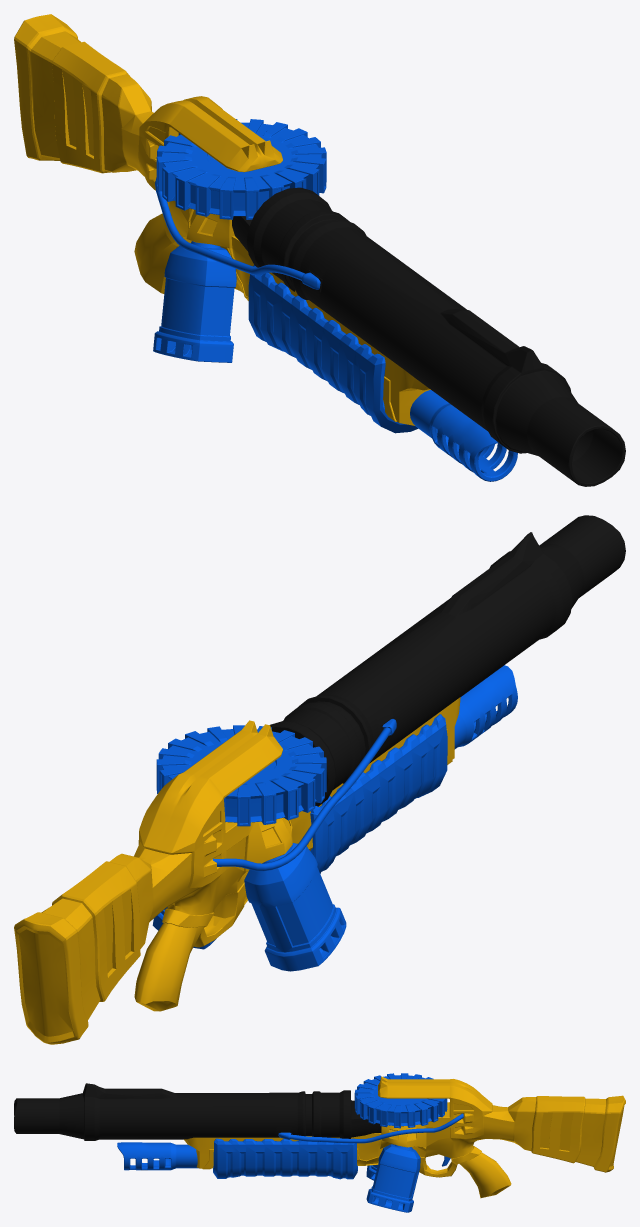
File: Frost_Cannon.fbx
3 views of the same model, one above another, from view 1: azimuth 30°, elevation 25°; view 2: azimuth 150°, elevation 25°; view 3: azimuth 270°, elevation 25° (orthographic). The views are drawn at different scales.
Visible parts, largest first — view 1: Frost_Cannon; view 2: Frost_Cannon; view 3: Frost_Cannon.
Part boxes in pixels (box(x1,y1,x2,y2)): Frost_Cannon: box(14, 14, 625, 486); Frost_Cannon: box(14, 515, 625, 1044); Frost_Cannon: box(14, 1073, 625, 1212).
Bounding box in the file's own units: 31.77 × 38.95 × 182.
